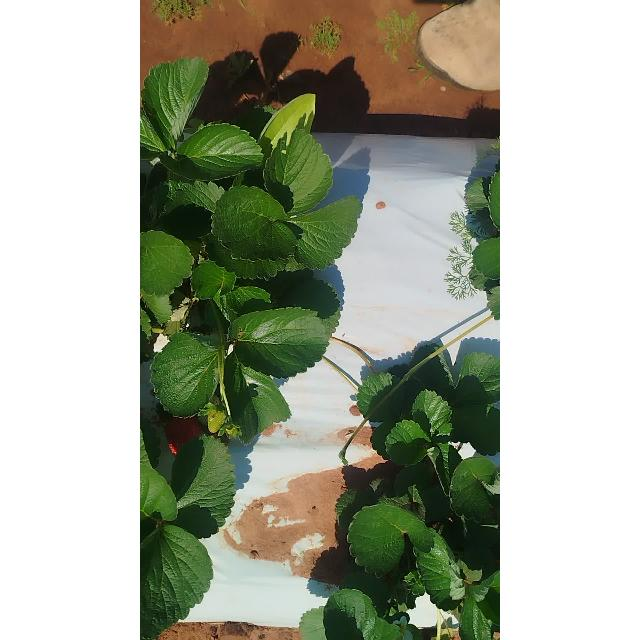maduro: (164, 416, 202, 454)
no-maduro: (208, 408, 226, 434)
